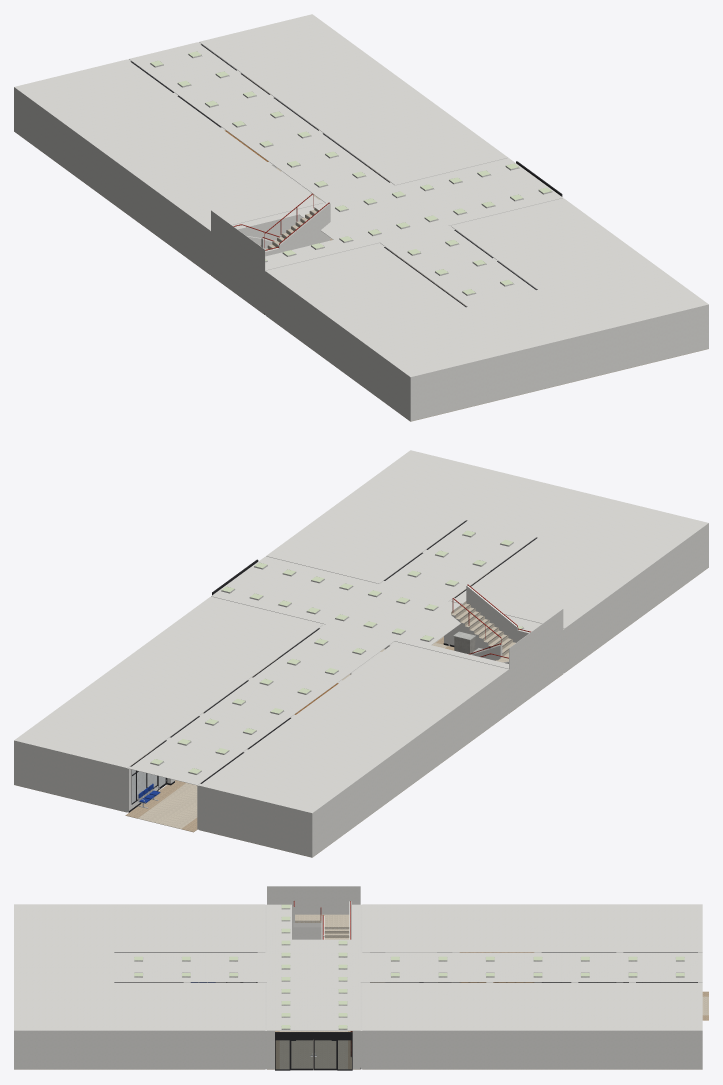
File: CecadecInterior.fbx
3 renders of one model, top to bottom at view 1: azimuth 30°, elevation 25°; view 2: azimuth 150°, elevation 25°; view 3: azimuth 270°, elevation 25°, orthographic. The views are drawn at different scales.
Visible parts, largest first — view 1: Lining_Rooms, Ceiling_Rooms_NE, Ceiling_Rooms_NW, Ceiling_Rooms_SE, Ceiling_Rooms_SW, Ceiling_Back1, Ceiling_Back2, Ceiling_Corridor4, Lining_Stairwell, Ceiling_Corridor2, Ceiling_Corridor3, Ceiling_South2 (+8 smaller); view 2: Lining_Rooms, Ceiling_Rooms_NW, Ceiling_Rooms_NE, Ceiling_Rooms_SE, Ceiling_Rooms_SW, Ceiling_Back1, Ceiling_Back2, Ceiling_Corridor4, Lining_Stairwell, Ceiling_Corridor2, Ceiling_Corridor3, Ceiling_South2 (+9 smaller); view 3: Lining_Rooms, Ceiling_Rooms_NW, Ceiling_Rooms_NE, Ceiling_Rooms_SW, Ceiling_Rooms_SE, Ceiling_Back1, Ceiling_Back2, Ceiling_Corridor4, Ceiling_Corridor2, Ceiling_Corridor3, Lining_Stairwell, Ceiling_South2 (+16 smaller).
Part boxes in pixels (x1,y1,x2,y2): Lining_Rooms: (14, 44, 708, 421); Ceiling_Rooms_NE: (199, 14, 508, 185); Ceiling_Rooms_NW: (14, 59, 322, 230); Ceiling_Rooms_SE: (451, 198, 650, 289); Ceiling_Rooms_SW: (266, 244, 465, 334); Ceiling_Back1: (353, 298, 559, 377); Ceiling_Back2: (502, 262, 708, 340); Ceiling_Corridor4: (265, 142, 393, 202); Lining_Stairwell: (211, 210, 265, 314); Ceiling_Corridor2: (155, 61, 277, 118); Ceiling_Corridor3: (210, 101, 332, 158); Ceiling_South2: (416, 252, 535, 306); Lining_Rooms: (14, 523, 708, 857); Ceiling_Rooms_NW: (199, 642, 507, 813); Ceiling_Rooms_NE: (14, 597, 322, 768); Ceiling_Rooms_SE: (266, 492, 465, 583); Ceiling_Rooms_SW: (451, 537, 650, 628); Ceiling_Back1: (502, 486, 708, 565); Ceiling_Back2: (353, 450, 559, 528); Ceiling_Corridor4: (265, 624, 394, 685); Lining_Stairwell: (509, 609, 563, 712); Ceiling_Corridor2: (156, 709, 278, 765); Ceiling_Corridor3: (211, 669, 332, 725); Ceiling_South2: (416, 520, 535, 575); Lining_Rooms: (14, 1031, 702, 1069); Ceiling_Rooms_NW: (362, 904, 702, 952); Ceiling_Rooms_NE: (362, 983, 702, 1030); Ceiling_Rooms_SW: (114, 904, 265, 952); Ceiling_Rooms_SE: (114, 983, 265, 1030); Ceiling_Back1: (14, 904, 114, 967); Ceiling_Back2: (14, 967, 114, 1030); Ceiling_Corridor4: (360, 953, 466, 982); Ceiling_Corridor2: (561, 953, 656, 982); Ceiling_Corridor3: (466, 953, 561, 982); Lining_Stairwell: (267, 886, 360, 939); Ceiling_South2: (114, 953, 205, 982).
Bounding box in the file's own units: 19.47 × 5.03 × 44.6.
